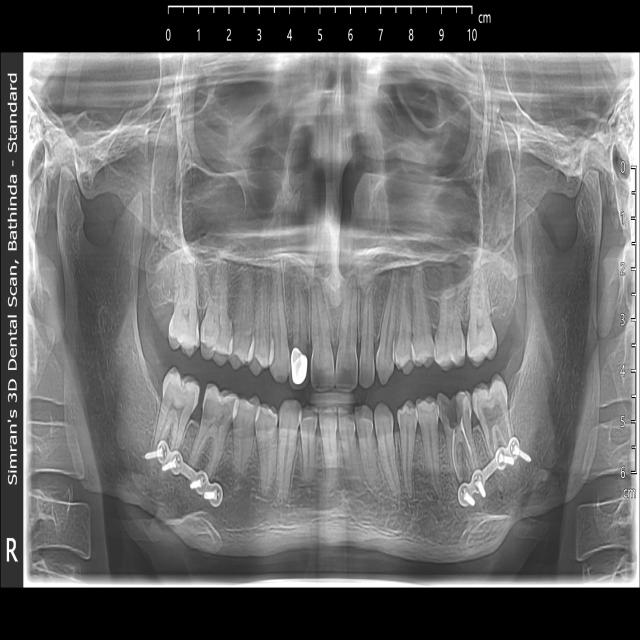Caries: (438, 392, 463, 427)
Crown: (292, 347, 308, 385)
Mandibular Canal: (488, 320, 578, 519), (88, 294, 174, 501)
Root Canal Treatment: (461, 418, 476, 472), (451, 424, 461, 483)
maxillary sinus: (365, 167, 487, 295), (180, 161, 284, 267)
